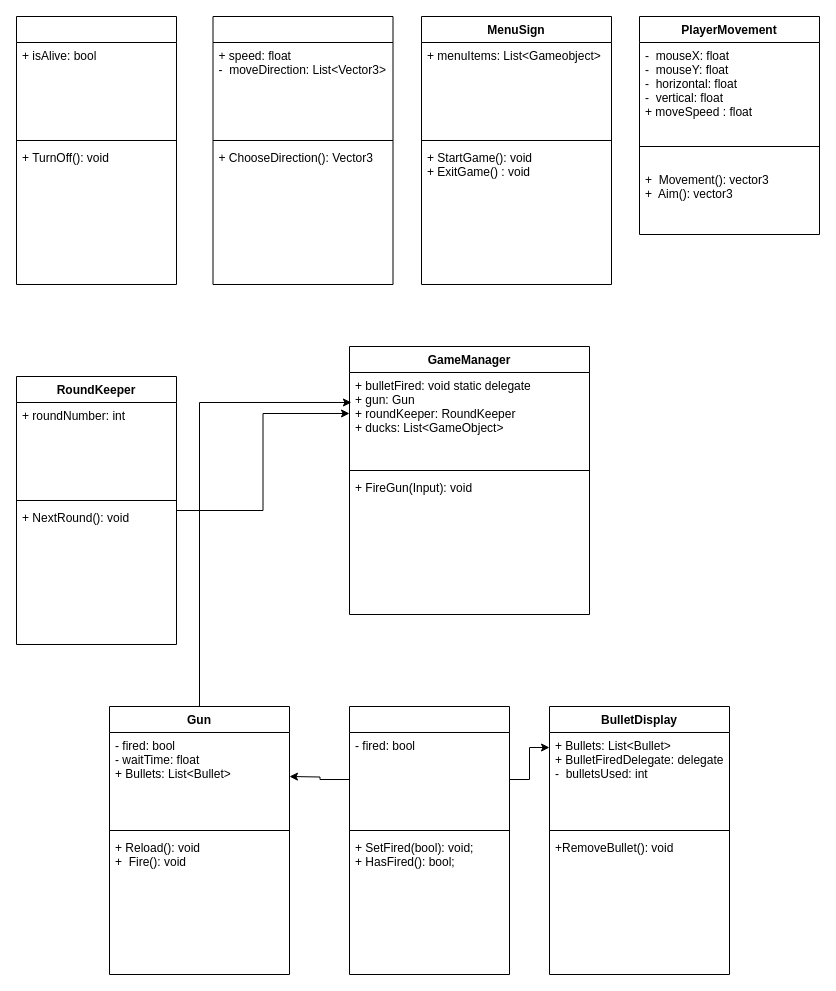
Image size: 836x991. Some labels were removed from this diagram. Each missing label, with the box of its shape:
Bullet: (348, 706, 510, 974)
DuckAlive: (16, 16, 176, 284)
DuckMovement: (212, 16, 393, 284)
